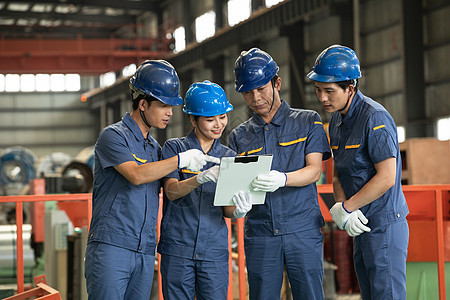safetyhat: (305, 34, 416, 291), (228, 45, 322, 299), (92, 47, 183, 269), (180, 71, 239, 294)
